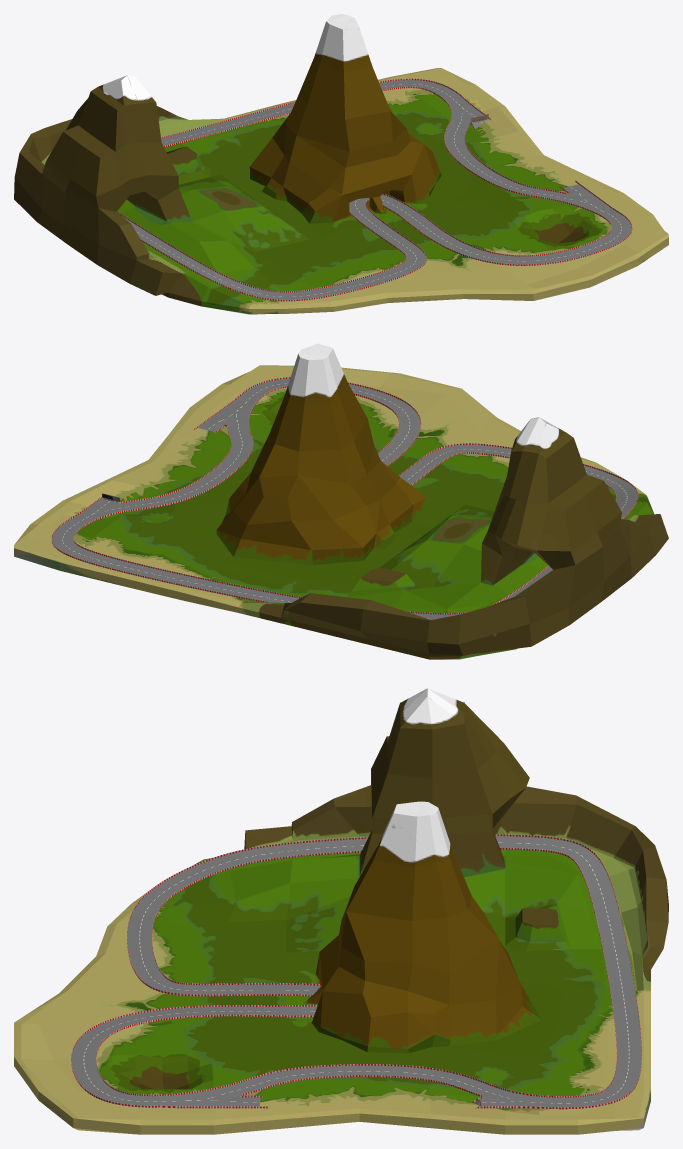
The model's file is mapaPirata.obj.
3 renders of one model, top to bottom at view 1: azimuth 30°, elevation 25°; view 2: azimuth 150°, elevation 25°; view 3: azimuth 270°, elevation 25°, orthographic. The views are drawn at different scales.
Visible parts, largest first — view 1: montana.001_montanaH.001, carretera_carreteraH; view 2: montana.001_montanaH.001, carretera_carreteraH; view 3: montana.001_montanaH.001, carretera_carreteraH.
Part boxes in pixels (<box>): montana.001_montanaH.001: <box>14,14,668,314</box>; carretera_carreteraH: <box>117,78,632,301</box>; montana.001_montanaH.001: <box>14,343,668,659</box>; carretera_carreteraH: <box>51,377,638,619</box>; montana.001_montanaH.001: <box>14,688,668,1134</box>; carretera_carreteraH: <box>71,834,641,1109</box>.
Size of the model in its own units: 1684 by 598 by 1642.
Materials: 3 (3 with a texture image).
